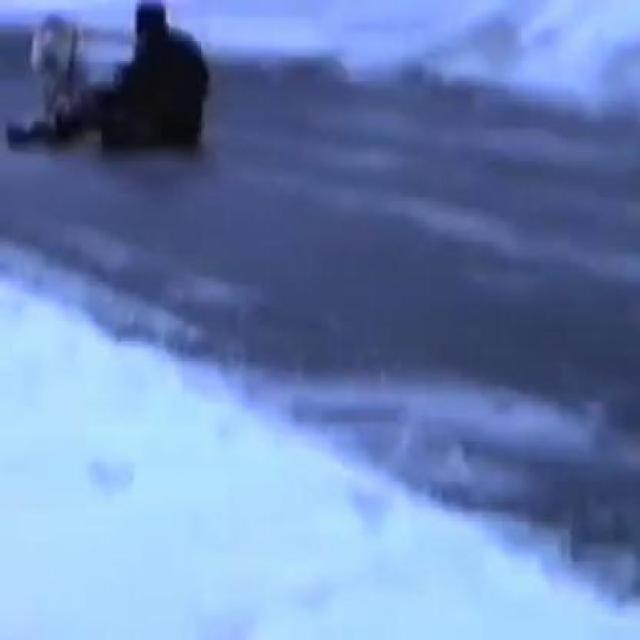fall: (11, 2, 206, 162)
